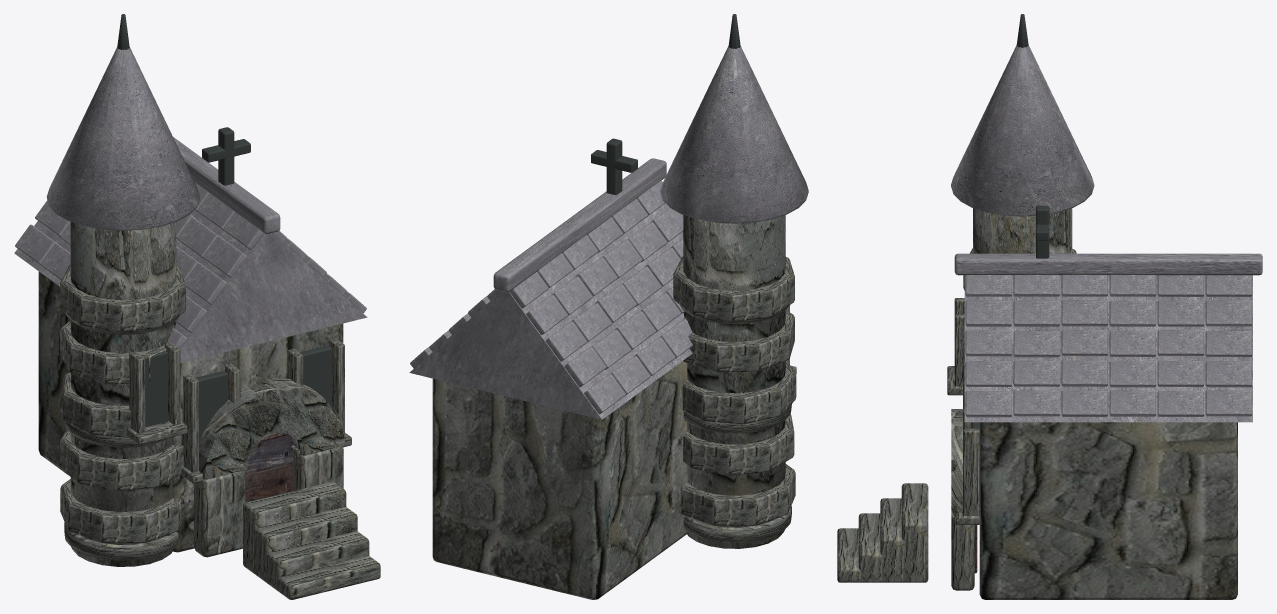
Rendered from env-site-monastery.glb.
The picture shows the model from 3 angles, left to right: view 1: azimuth 30°, elevation 25°; view 2: azimuth 150°, elevation 25°; view 3: azimuth 270°, elevation 25°; orthographic projection. The views are drawn at different scales.
Parts seen in each view (by area): view 1: site monastery · authored textured miniature; view 2: site monastery · authored textured miniature; view 3: site monastery · authored textured miniature.
Boxes of the visible parts, box(x1,y1,x2,y2) form: site monastery · authored textured miniature: box(14, 14, 380, 599); site monastery · authored textured miniature: box(409, 14, 808, 599); site monastery · authored textured miniature: box(837, 14, 1262, 599).
Size of the model in its own units: 0.9123 by 1.66 by 1.29.
Materials: 4 (3 with a texture image).
